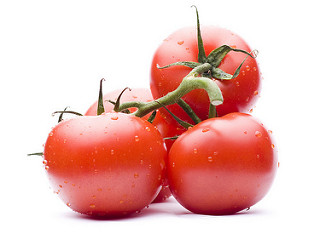tomato: (48, 108, 166, 214), (168, 110, 277, 216), (152, 19, 259, 114)
